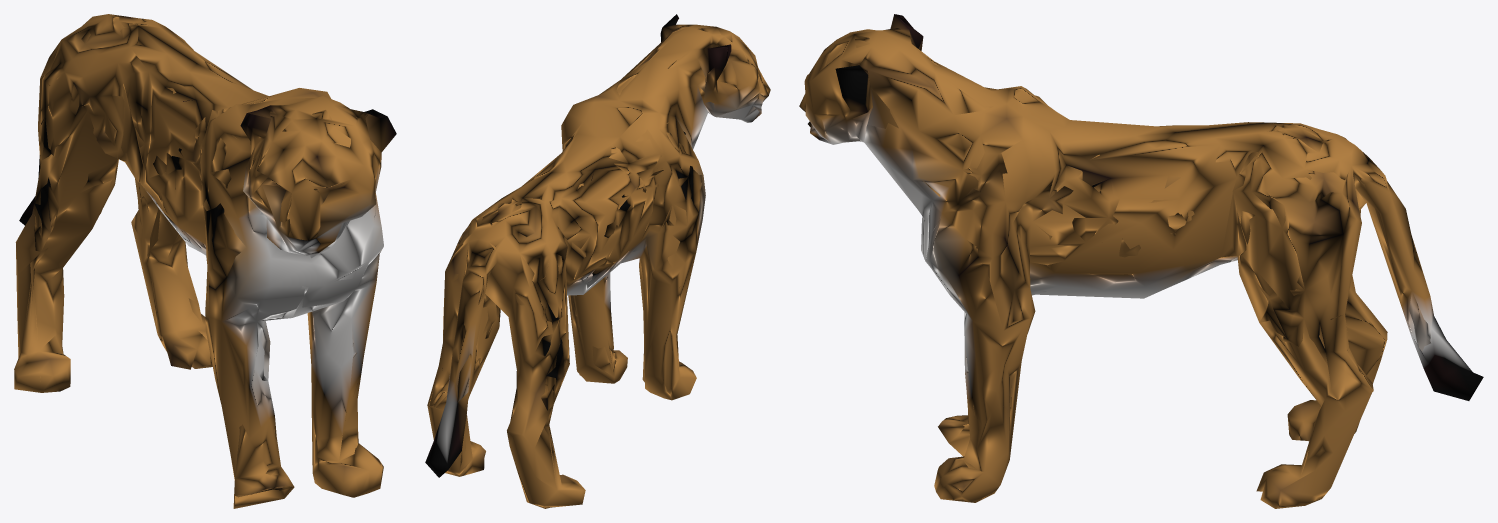
The model's file is gen3d-cheetah-lod0.glb.
3 views of the same model, side by side, from view 1: azimuth 30°, elevation 25°; view 2: azimuth 150°, elevation 25°; view 3: azimuth 270°, elevation 25° (orthographic). The views are drawn at different scales.
Parts seen in each view (by area): view 1: part_0; view 2: part_0; view 3: part_0.
Boxes of the visible parts, x1=… form: part_0: x1=14, y1=14, x2=396, y2=508; part_0: x1=425, y1=14, x2=770, y2=508; part_0: x1=799, y1=14, x2=1483, y2=508.
Size of the model in its own units: 0.4707 by 0.9974 by 1.48.
